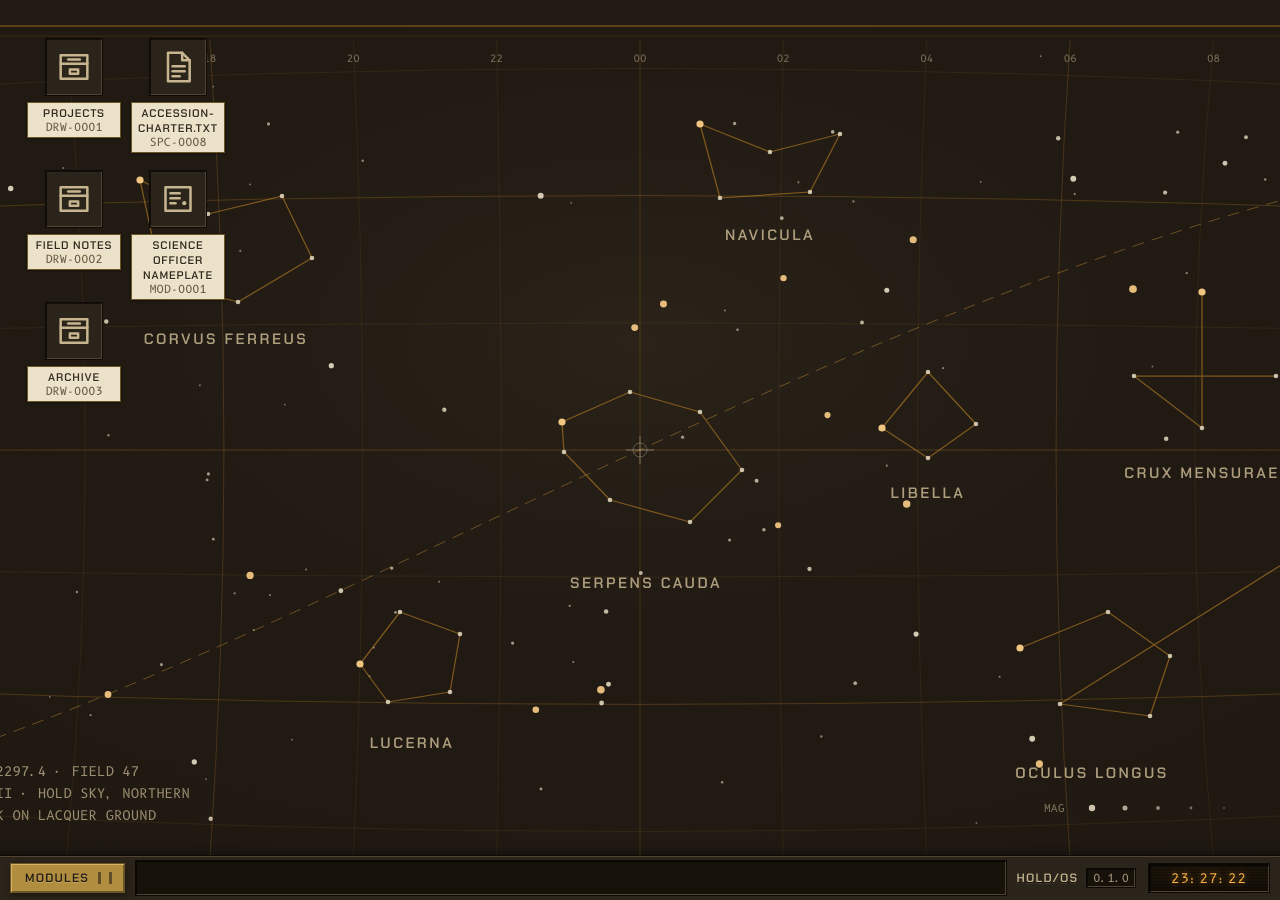
Test: UI-5 · ground menu › opens on ground right-click: role=menu with the three commands
The width and height of the screenshot is (1280, 900).
Step 1. Right-click the element named "Hold console" → x=640, y=450, box [0,0,1279,899]
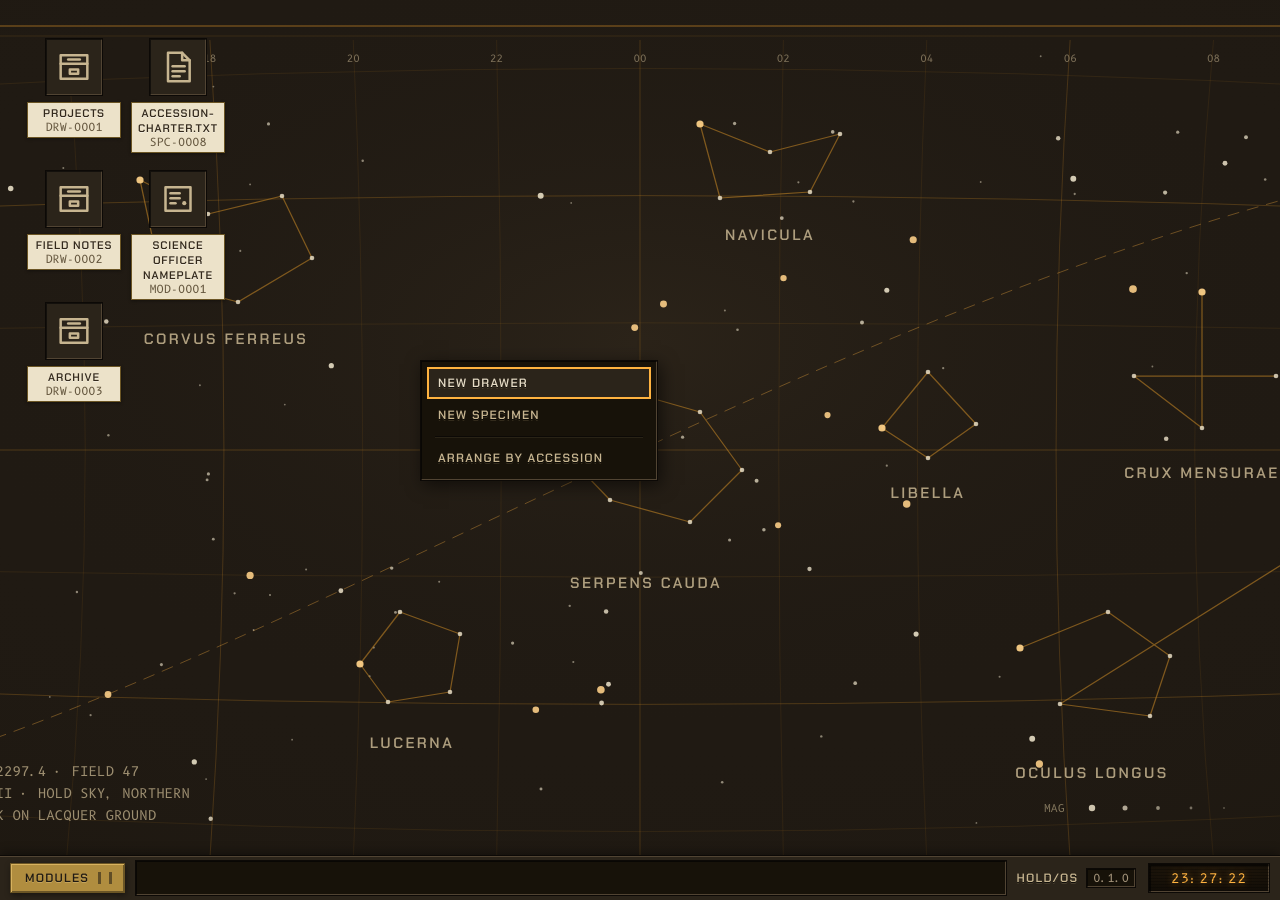
Result: the number of menu items is 3 at [427,367,651,399]; [427,399,651,431]; [427,442,651,474]
